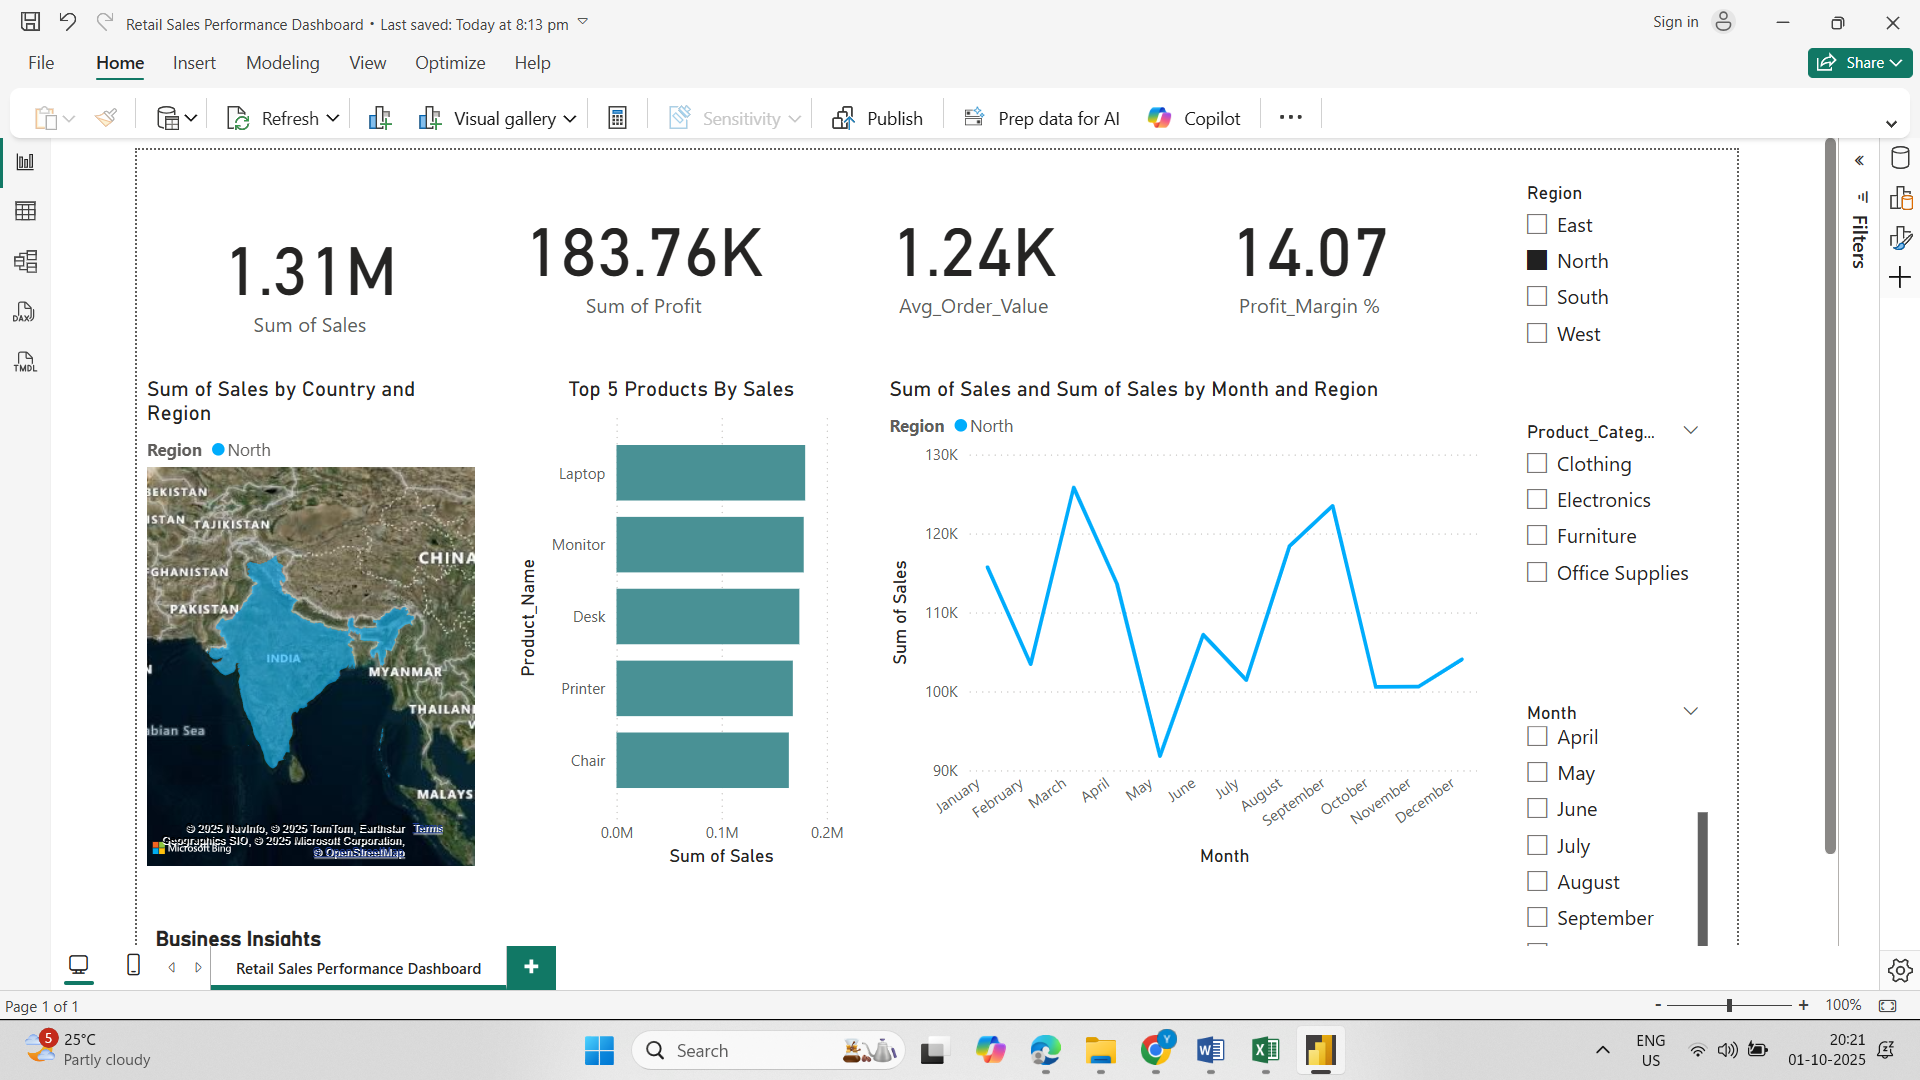

Layout of this report page (visuals, bound fields, positions):
{"tool":"powerbi","page":{"name":"Retail Sales Performance Dashboard","canvas":[1280,720],"ordinal":0},"visuals":[{"type":"card","fields":{"Values":["Sum(Retail_Sales_Dashboard_Dataset_.Sales)"]},"box":[10.1,21.4,257,160.1],"z":0},{"type":"card","fields":{"Values":["Sum(Retail_Sales_Dashboard_Dataset_.Profit)"]},"box":[281.8,21.4,246.8,129.6],"z":1},{"type":"card","fields":{"Values":["Retail_Sales_Dashboard_Dataset_.Avg_Order_Value"]},"box":[551.2,21.4,236.7,129.6],"z":2},{"type":"card","fields":{"Values":["Retail_Sales_Dashboard_Dataset_.Profit_Margin %"]},"box":[818.3,21.4,240.1,129.6],"z":3},{"type":"filledMap","fields":{"Category":["Retail_Sales_Dashboard_Dataset_.Country"],"Series":["Retail_Sales_Dashboard_Dataset_.Region"]},"box":[3.4,181.5,271.6,396.7],"z":4},{"type":"clusteredBarChart","title":"Top 5 Products By Sales","fields":{"Category":["Retail_Sales_Dashboard_Dataset_.Product_Name"],"Y":["Sum(Retail_Sales_Dashboard_Dataset_.Sales)"]},"box":[299.8,181.5,271.6,396.7],"z":5},{"type":"lineChart","fields":{"Category":["Retail_Sales_Dashboard_Dataset_.Order_Date.Variation.Date Hierarchy.Month"],"Y":["Sum(Retail_Sales_Dashboard_Dataset_.Sales)"],"Series":["Retail_Sales_Dashboard_Dataset_.Region"]},"box":[597.4,181.5,481.3,396.7],"z":6},{"type":"slicer","fields":{"Values":["Retail_Sales_Dashboard_Dataset_.Region"]},"box":[1098.9,21.4,163.4,160.1],"z":8},{"type":"slicer","fields":{"Values":["Retail_Sales_Dashboard_Dataset_.Product_Category"]},"box":[1098.9,211.9,163.4,172.4],"z":9},{"type":"slicer","fields":{"Values":["Retail_Sales_Dashboard_Dataset_.Order_Date.Variation.Date Hierarchy.Month"]},"box":[1098.9,437.3,163.4,282.9],"z":10},{"type":"textbox","title":"Business Insights","box":[10.1,621,1068.5,99.2],"z":11}]}

Visuals, with their boxes on the page's 1280x720 design canvas (x1, y1, x2, y2). These are canvas units, not pixel positions in the 1920x1080 screenshot, which may show the page scaled, cropped or inside an application window:
card - Sum(Retail_Sales_Dashboard_Dataset_.Sales): crop(10, 21, 267, 182)
card - Sum(Retail_Sales_Dashboard_Dataset_.Profit): crop(282, 21, 529, 151)
card - Retail_Sales_Dashboard_Dataset_.Avg_Order_Value: crop(551, 21, 788, 151)
card - Retail_Sales_Dashboard_Dataset_.Profit_Margin %: crop(818, 21, 1058, 151)
filledMap - Retail_Sales_Dashboard_Dataset_.Country x Retail_Sales_Dashboard_Dataset_.Region: crop(3, 182, 275, 578)
"Top 5 Products By Sales" clusteredBarChart: crop(300, 182, 571, 578)
lineChart - Retail_Sales_Dashboard_Dataset_.Order_Date.Variation.Date Hierarchy.Month x Sum(Retail_Sales_Dashboard_Dataset_.Sales): crop(597, 182, 1079, 578)
slicer - Retail_Sales_Dashboard_Dataset_.Region: crop(1099, 21, 1262, 182)
slicer - Retail_Sales_Dashboard_Dataset_.Product_Category: crop(1099, 212, 1262, 384)
slicer - Retail_Sales_Dashboard_Dataset_.Order_Date.Variation.Date Hierarchy.Month: crop(1099, 437, 1262, 720)
"Business Insights" textbox: crop(10, 621, 1079, 720)
